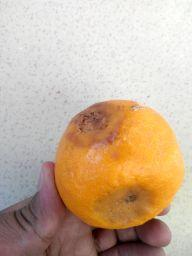Unripe: (53, 99, 186, 230)
